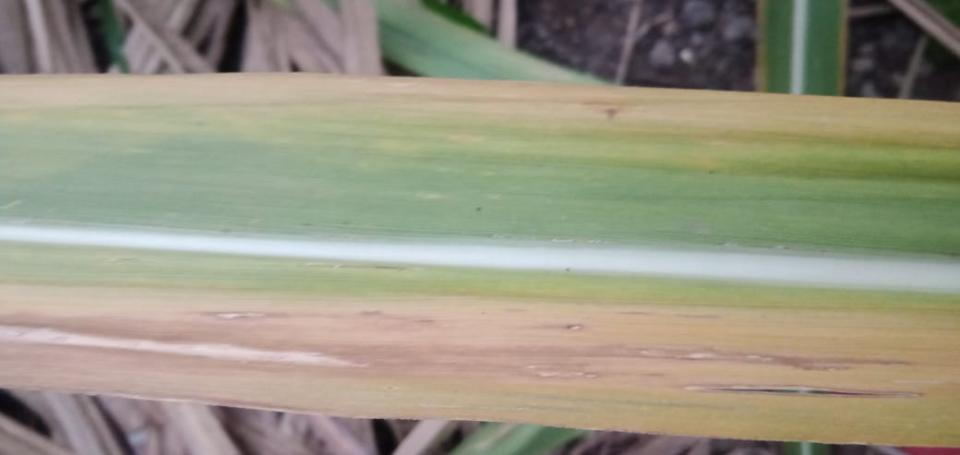Yellow: (0, 306, 959, 450), (0, 72, 959, 139)
